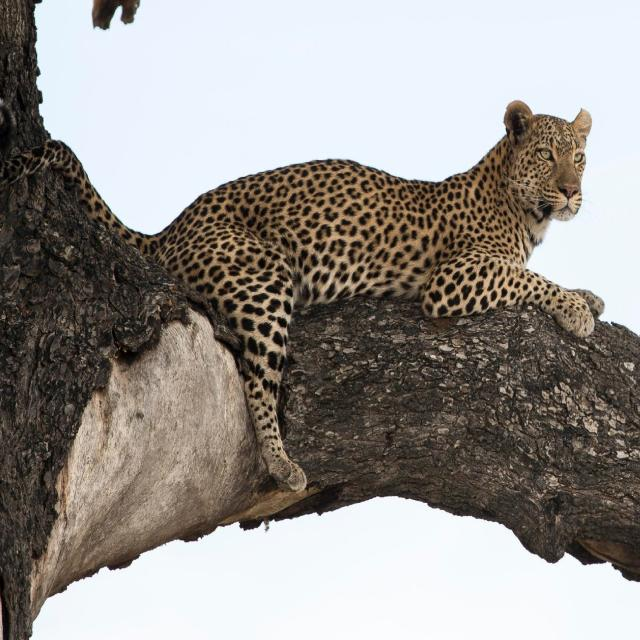Leopard: (50, 100, 599, 508)
